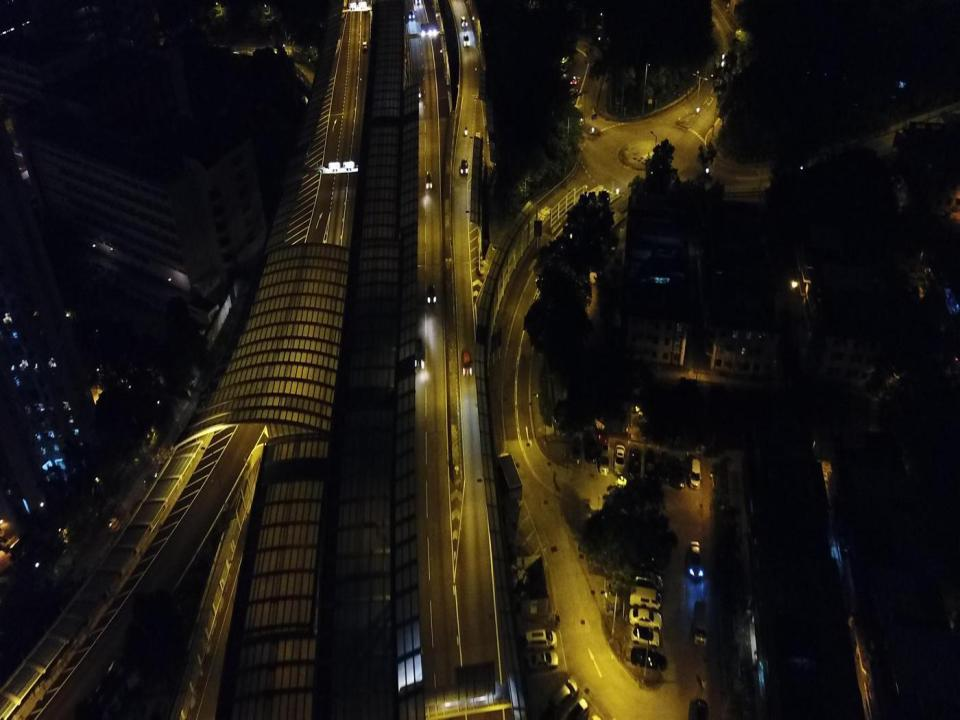bus: (694, 598, 708, 647)
car: (546, 678, 578, 715), (630, 646, 667, 670), (629, 568, 664, 591), (525, 628, 558, 652), (524, 650, 559, 670), (629, 606, 662, 627), (631, 625, 661, 647), (627, 446, 644, 479), (688, 541, 703, 578), (566, 697, 588, 719), (613, 443, 627, 475), (644, 448, 657, 482), (569, 433, 583, 464), (661, 450, 674, 483), (689, 458, 702, 490), (412, 336, 425, 368), (672, 454, 684, 488), (586, 432, 598, 465), (599, 441, 610, 475), (462, 350, 473, 377), (426, 281, 436, 305), (460, 157, 468, 176), (425, 170, 433, 189), (462, 33, 471, 46), (406, 7, 415, 20), (460, 14, 468, 28)
van: (628, 585, 663, 610)
